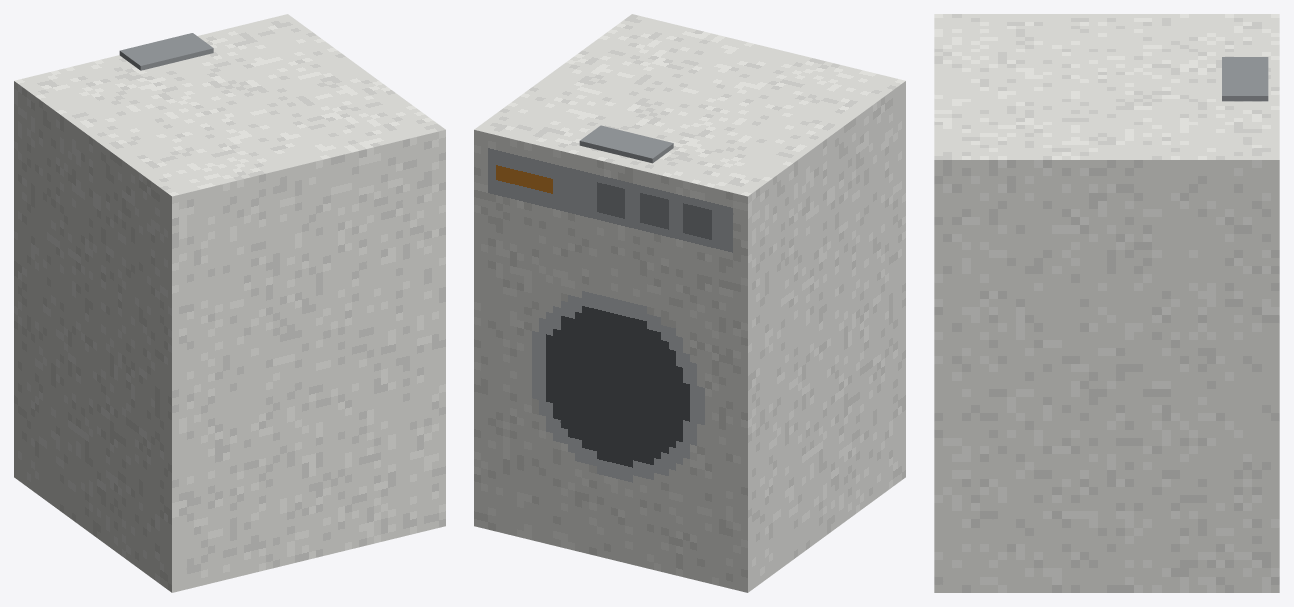
The model's file is f_dryer.glb.
The picture shows the model from 3 angles, left to right: view 1: azimuth 30°, elevation 25°; view 2: azimuth 150°, elevation 25°; view 3: azimuth 270°, elevation 25°; orthographic projection. The views are drawn at different scales.
Parts seen in each view (by area): view 1: block_body, block_lint; view 2: block_body, block_lint; view 3: block_body, block_lint.
Boxes of the visible parts, left/top/right/bottom form: block_body: left=14, top=14, right=445, bottom=592; block_lint: left=119, top=33, right=213, bottom=70; block_body: left=474, top=14, right=905, bottom=592; block_lint: left=579, top=125, right=673, bottom=163; block_body: left=934, top=14, right=1279, bottom=592; block_lint: left=1222, top=57, right=1268, bottom=101.
Bounding box in the file's own units: 0.6 × 0.85 × 0.6.
1 material, 1 textured.
